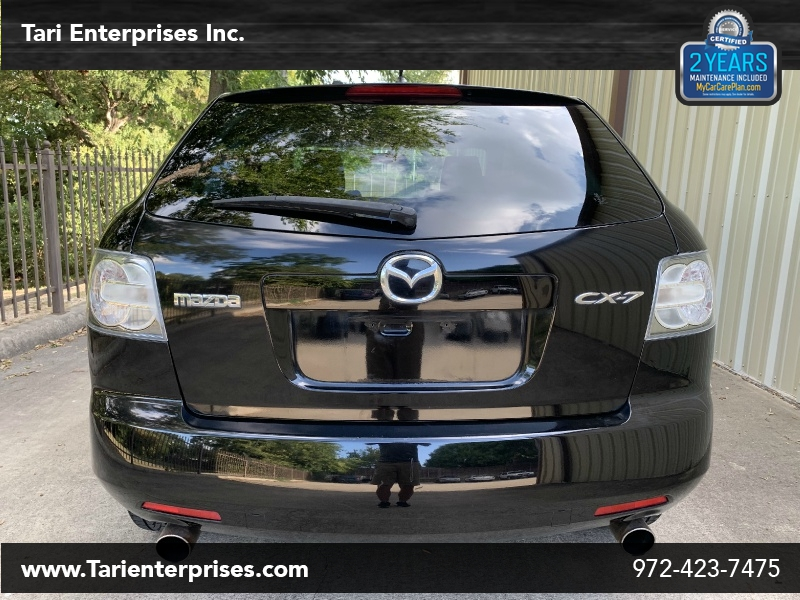Mazda3 Hatchback: (83, 82, 721, 543)
